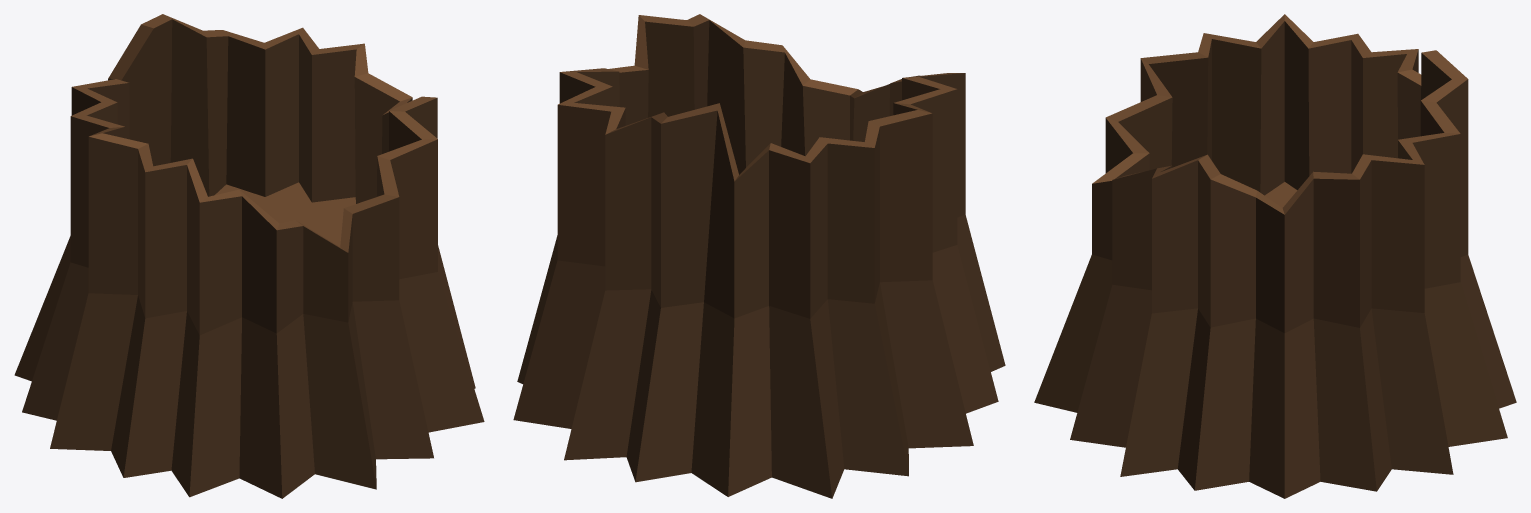
The model's file is Tree_Trunk_6_Dark_Brown.fbx.
3 renders of one model, left to right at view 1: azimuth 30°, elevation 25°; view 2: azimuth 150°, elevation 25°; view 3: azimuth 270°, elevation 25°, orthographic. The views are drawn at different scales.
Parts seen in each view (by area): view 1: Tree_Trunk_6_Dark_Brown_Part_1, Tree_Trunk_6_Dark_Brown_Part_2; view 2: Tree_Trunk_6_Dark_Brown_Part_1, Tree_Trunk_6_Dark_Brown_Part_2; view 3: Tree_Trunk_6_Dark_Brown_Part_1, Tree_Trunk_6_Dark_Brown_Part_2.
Part boxes in pixels (<box>): Tree_Trunk_6_Dark_Brown_Part_1: <box>14,19,484,498</box>; Tree_Trunk_6_Dark_Brown_Part_2: <box>71,14,437,252</box>; Tree_Trunk_6_Dark_Brown_Part_1: <box>513,20,1005,498</box>; Tree_Trunk_6_Dark_Brown_Part_2: <box>558,14,963,181</box>; Tree_Trunk_6_Dark_Brown_Part_1: <box>1034,21,1516,498</box>; Tree_Trunk_6_Dark_Brown_Part_2: <box>1092,14,1467,214</box>.
Size of the model in its own units: 142 by 113 by 148.
